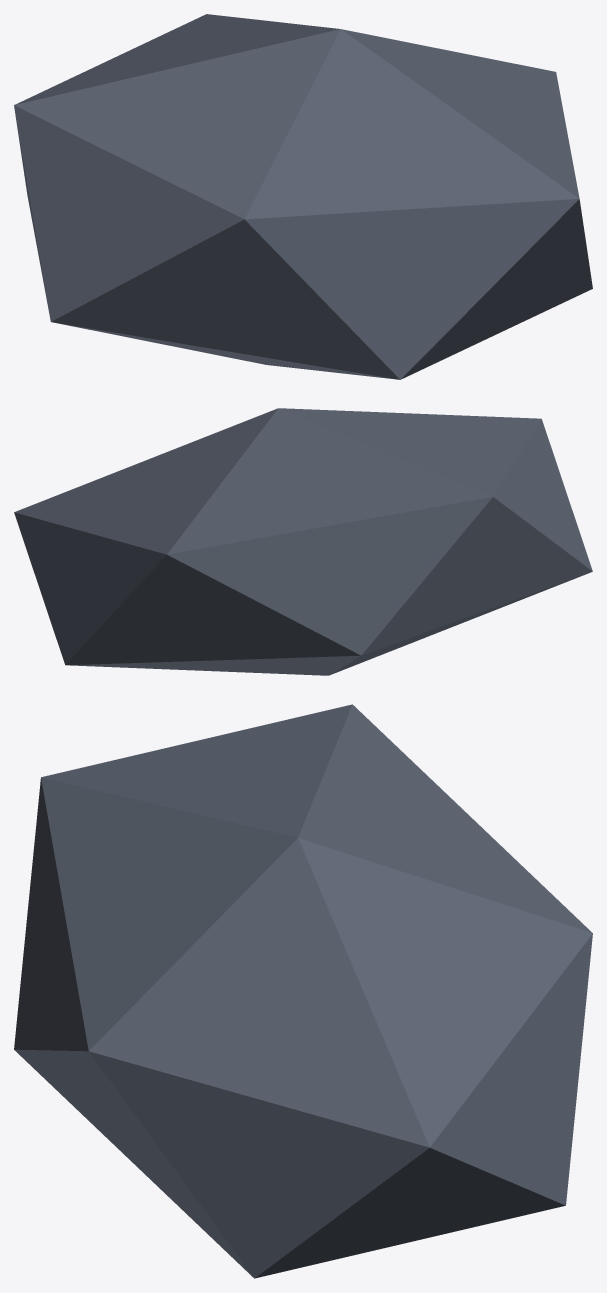
The model's file is EXT_SouthCliff_02_Shard_0.glb.
3 views of the same model, one above another, from view 1: azimuth 30°, elevation 25°; view 2: azimuth 150°, elevation 25°; view 3: azimuth 270°, elevation 25° (orthographic). The views are drawn at different scales.
Parts seen in each view (by area): view 1: EXT_SouthCliff_02_Shard_0; view 2: EXT_SouthCliff_02_Shard_0; view 3: EXT_SouthCliff_02_Shard_0.
Part boxes in pixels (x1,y1,x2,y2): EXT_SouthCliff_02_Shard_0: (14, 14, 592, 379); EXT_SouthCliff_02_Shard_0: (14, 408, 592, 675); EXT_SouthCliff_02_Shard_0: (14, 704, 592, 1278).
Size of the model in its own units: 2.05 by 1.01 by 1.55.
